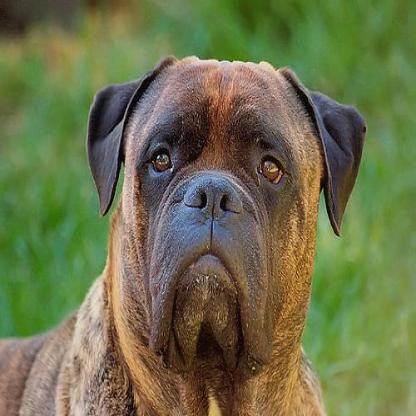bull_mastiff: (0, 54, 365, 414)
